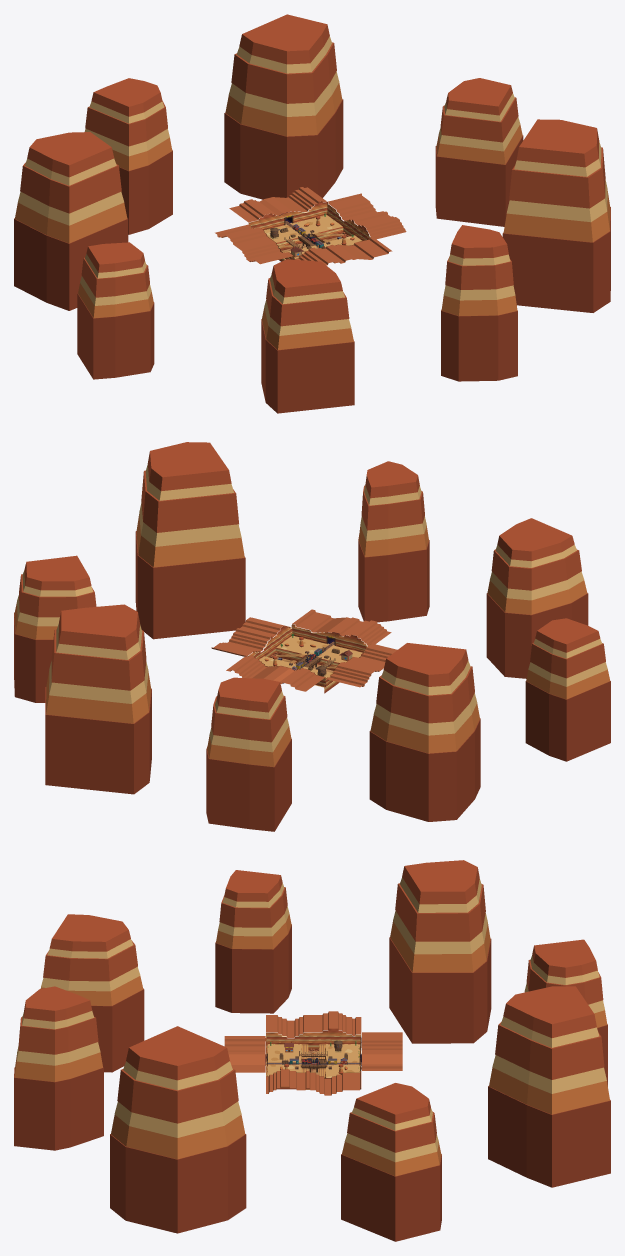
File: canyon_express.glb
3 views of the same model, one above another, from view 1: azimuth 30°, elevation 25°; view 2: azimuth 150°, elevation 25°; view 3: azimuth 270°, elevation 25° (orthographic). The views are drawn at different scales.
Parts seen in each view (by area): view 1: VIS_s_dark, VIS_s_red, VIS_s_cream, VIS_s_orange, VIS_sand; view 2: VIS_s_dark, VIS_s_red, VIS_s_cream, VIS_s_orange, VIS_sand; view 3: VIS_s_dark, VIS_s_red, VIS_s_cream, VIS_s_orange, VIS_sand.
Part boxes in pixels (left/top/right/bottom): VIS_s_dark: left=14, top=99, right=610, bottom=413; VIS_s_red: left=20, top=14, right=605, bottom=326; VIS_s_cream: left=18, top=36, right=607, bottom=335; VIS_s_orange: left=15, top=82, right=610, bottom=350; VIS_sand: left=264, top=215, right=361, bottom=259; VIS_s_dark: left=14, top=531, right=610, bottom=831; VIS_s_red: left=19, top=442, right=605, bottom=742; VIS_s_cream: left=17, top=464, right=607, bottom=752; VIS_s_orange: left=14, top=514, right=610, bottom=766; VIS_sand: left=259, top=636, right=362, bottom=687; VIS_s_dark: left=14, top=924, right=610, bottom=1241; VIS_s_red: left=18, top=860, right=604, bottom=1152; VIS_s_cream: left=16, top=877, right=606, bottom=1162; VIS_s_orange: left=14, top=913, right=609, bottom=1176; VIS_sand: left=266, top=1044, right=361, bottom=1077.
Size of what is drawn, in the model's own units: 453 by 130 by 438.
